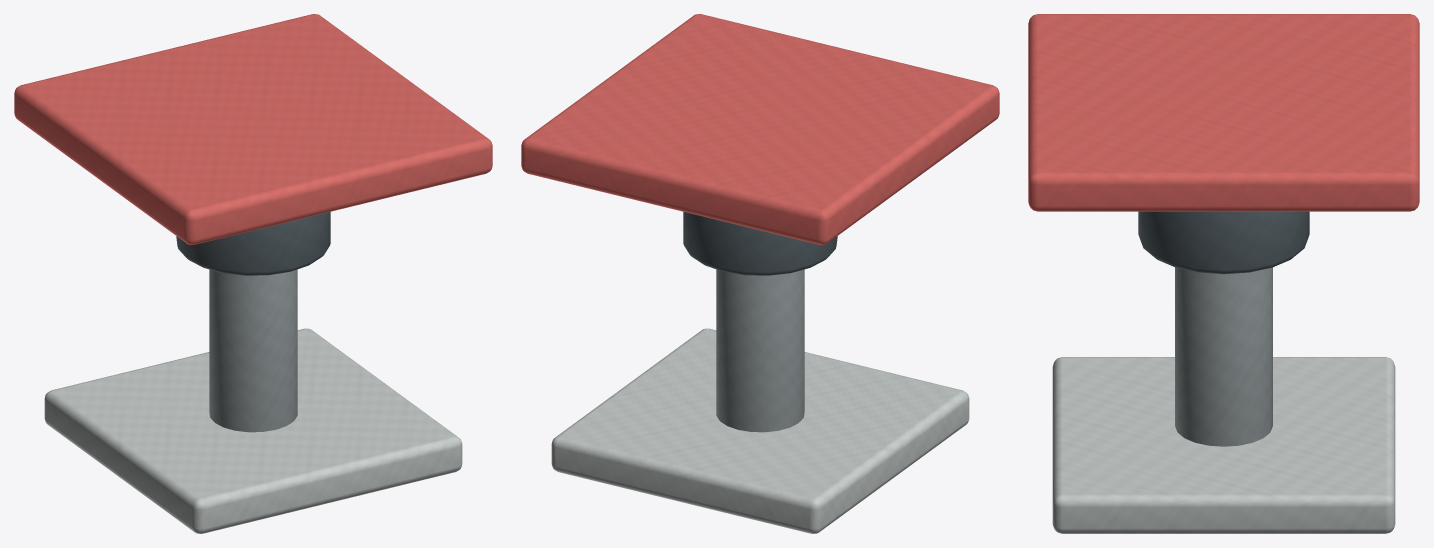
The model's file is CeilingSprinkler.glb.
The picture shows the model from 3 angles, left to right: view 1: azimuth 30°, elevation 25°; view 2: azimuth 150°, elevation 25°; view 3: azimuth 270°, elevation 25°; orthographic projection. The views are drawn at different scales.
Parts seen in each view (by area): view 1: CeilingSprinkler_Mesh; view 2: CeilingSprinkler_Mesh; view 3: CeilingSprinkler_Mesh.
Part boxes in pixels (<box>): CeilingSprinkler_Mesh: <box>14,14,492,533</box>; CeilingSprinkler_Mesh: <box>521,14,999,533</box>; CeilingSprinkler_Mesh: <box>1028,14,1419,533</box>.
Bounding box in the file's own units: 0.32 × 0.3375 × 0.32.
5 materials, 5 textured.
